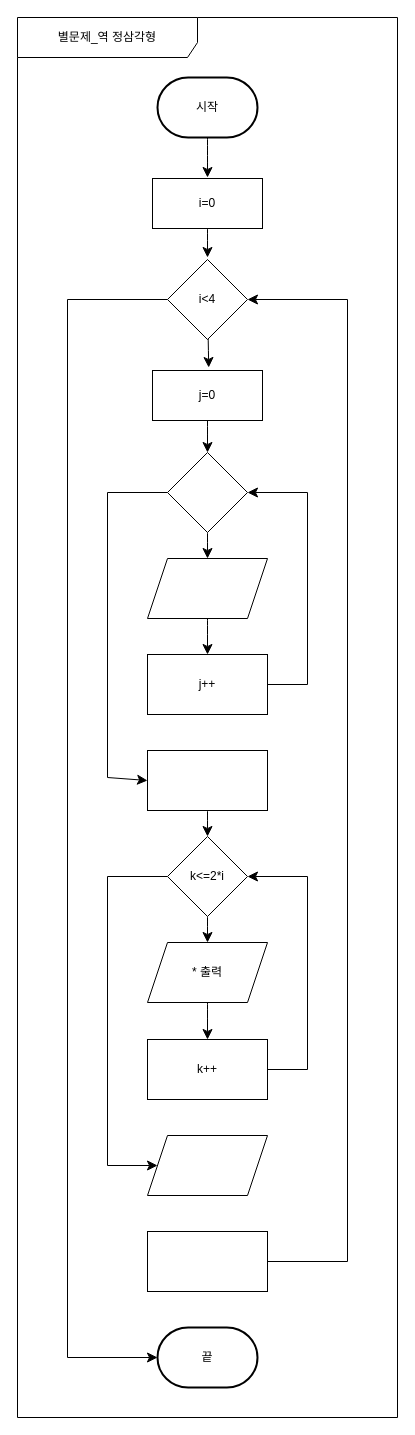
The diagram is 415 pixels wide and 1435 high, and some of its shapes have lost their labels. The shapes that lost their labels are listed below. From the top down, each one's centre as x and y in pixels, then its label:
point 207,492: i<3-i
point 207,588: " "추가
point 207,780: k=0
point 207,1165: 개행 처리
point 207,1261: i++
